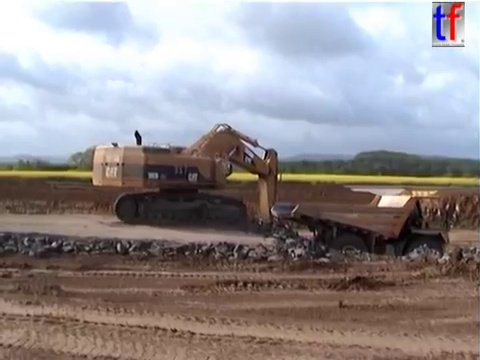truck: (89, 121, 292, 254), (268, 187, 459, 275)
